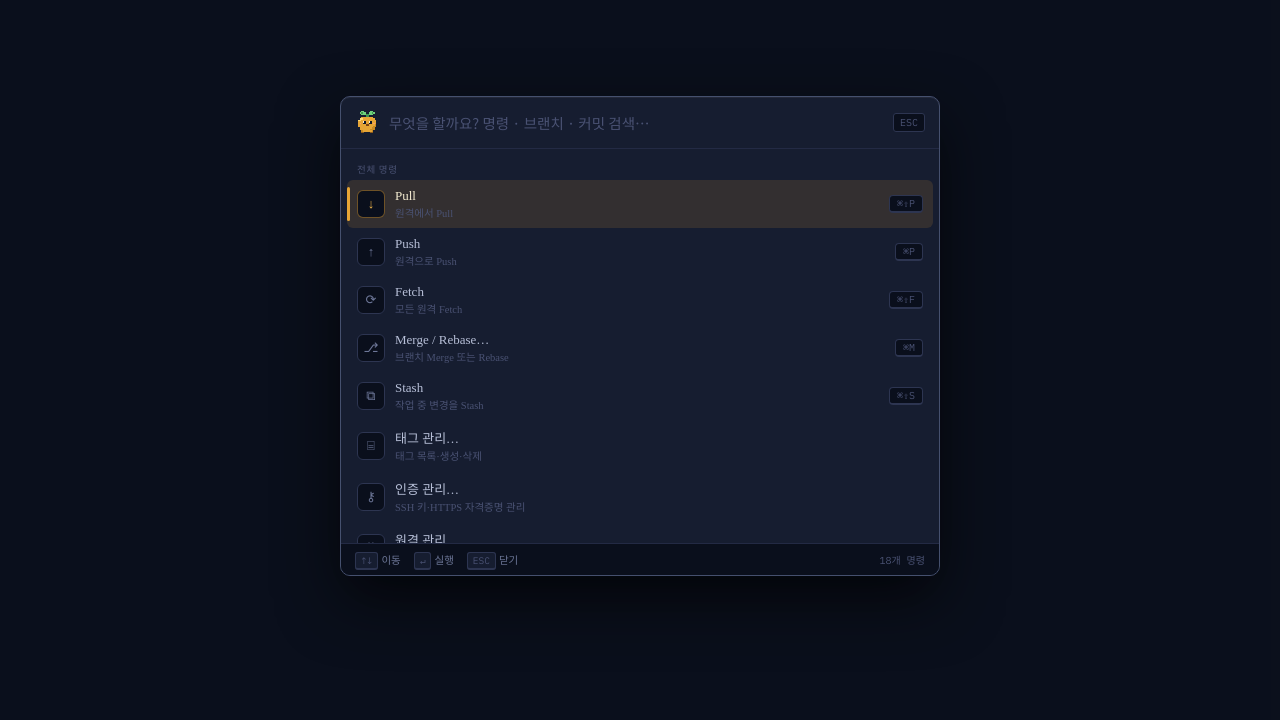
CommandPalette — 상황 제안 + 검색 › 매칭 없으면 그루 빈 상태 + 추천 칩을 보여준다
Type "zzzznope" into the field with placeholder "무엇을 할까요? 명령 · 브랜치 · 커밋 검색…" at [636, 122], box x1=389 y1=112 x2=883 y2=133
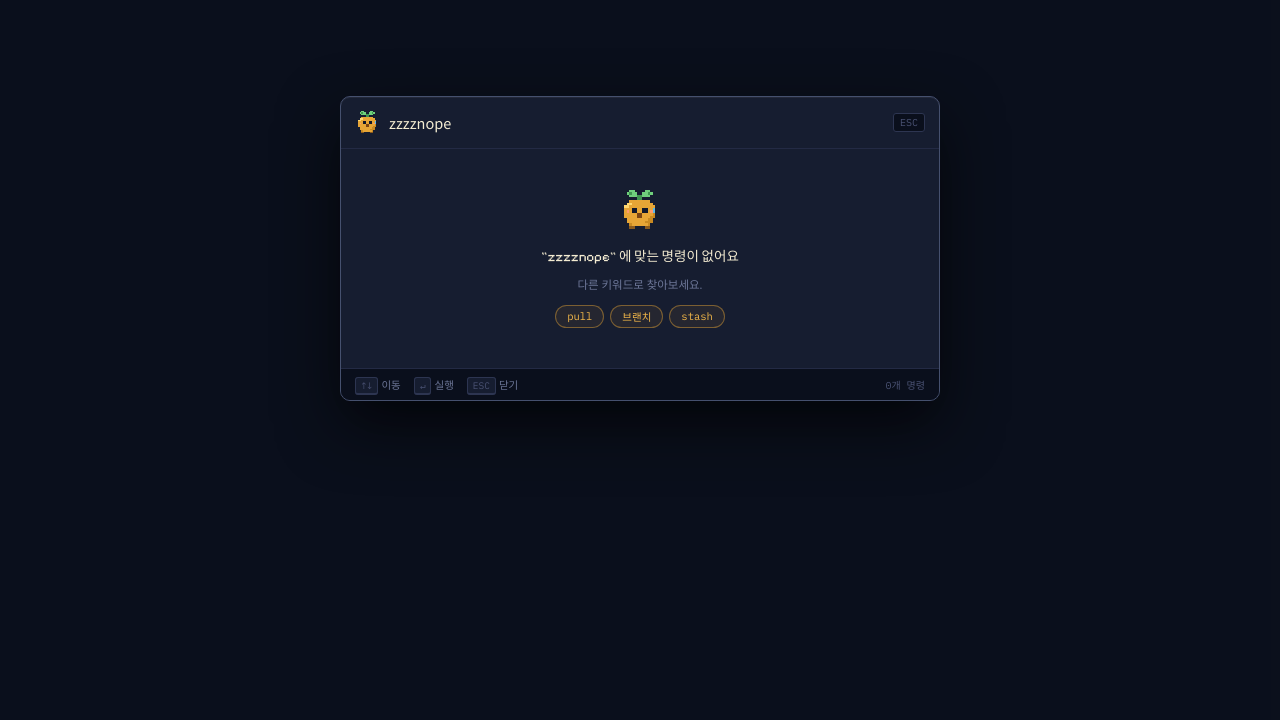
expect the button "pull" is shown: met, box x1=555 y1=305 x2=604 y2=328
expect the text "\"zzzznope\" 에 맞는 명령이 없어요" is shown: met, box x1=541 y1=245 x2=739 y2=265
